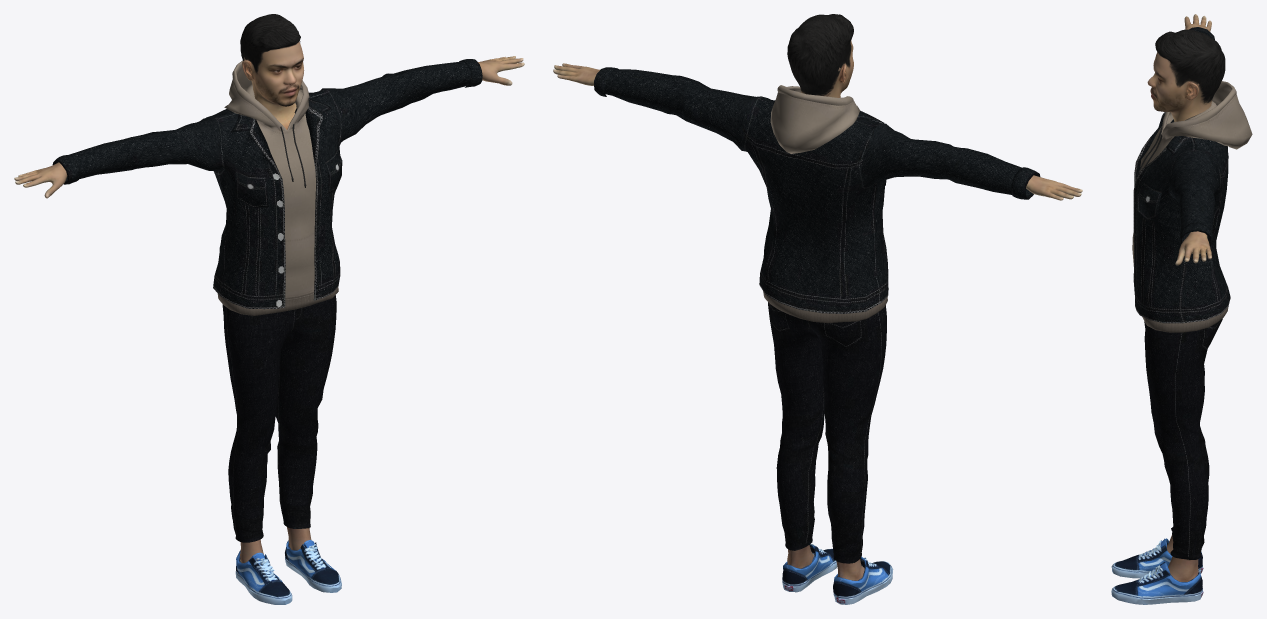
3 renders of one model, left to right at view 1: azimuth 30°, elevation 25°; view 2: azimuth 150°, elevation 25°; view 3: azimuth 270°, elevation 25°, orthographic. The views are drawn at different scales.
Visible parts, largest first — view 1: avaturn_look_0, avaturn_body, avaturn_shoes_0, avaturn_hair_0; view 2: avaturn_look_0, avaturn_hair_0, avaturn_body, avaturn_shoes_0; view 3: avaturn_look_0, avaturn_body, avaturn_shoes_0, avaturn_hair_0.
Boxes of the visible parts, x1,y1,x2,y2 form: avaturn_look_0: [52, 59, 482, 542]; avaturn_body: [14, 41, 524, 563]; avaturn_shoes_0: [235, 540, 341, 604]; avaturn_hair_0: [240, 14, 300, 73]; avaturn_look_0: [594, 67, 1040, 563]; avaturn_hair_0: [787, 14, 853, 96]; avaturn_body: [553, 40, 1082, 580]; avaturn_shoes_0: [782, 544, 893, 604]; avaturn_look_0: [1132, 27, 1252, 559]; avaturn_body: [1147, 14, 1211, 581]; avaturn_shoes_0: [1111, 538, 1203, 604]; avaturn_hair_0: [1155, 29, 1225, 104].
Size of the model in its own units: 1.77 by 1.85 by 0.4286.
4 materials, 4 textured.
